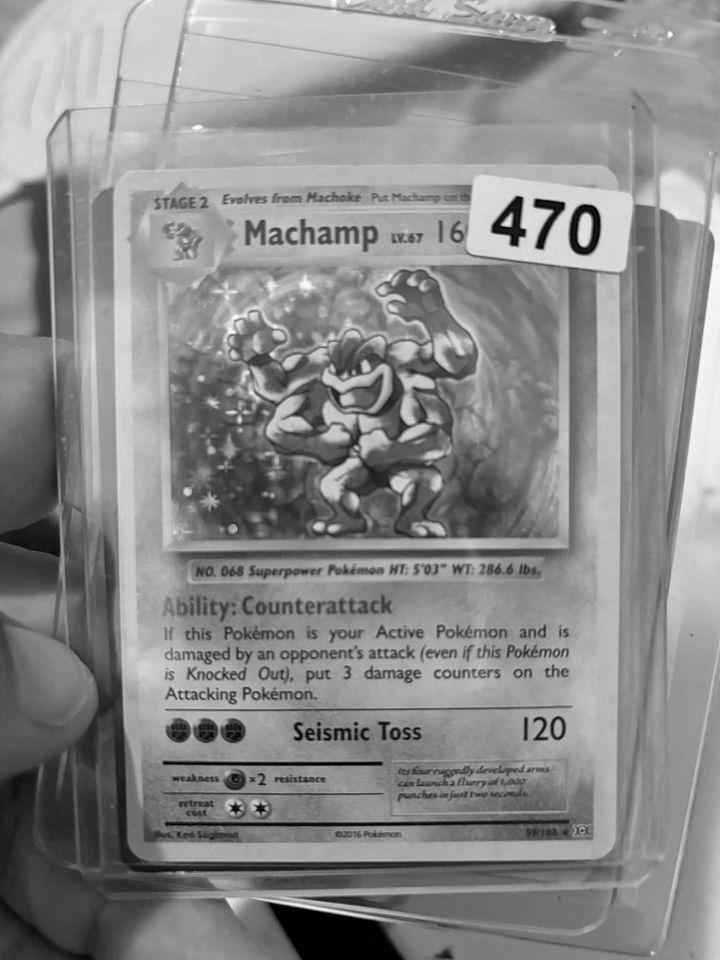card: (110, 162, 622, 863)
